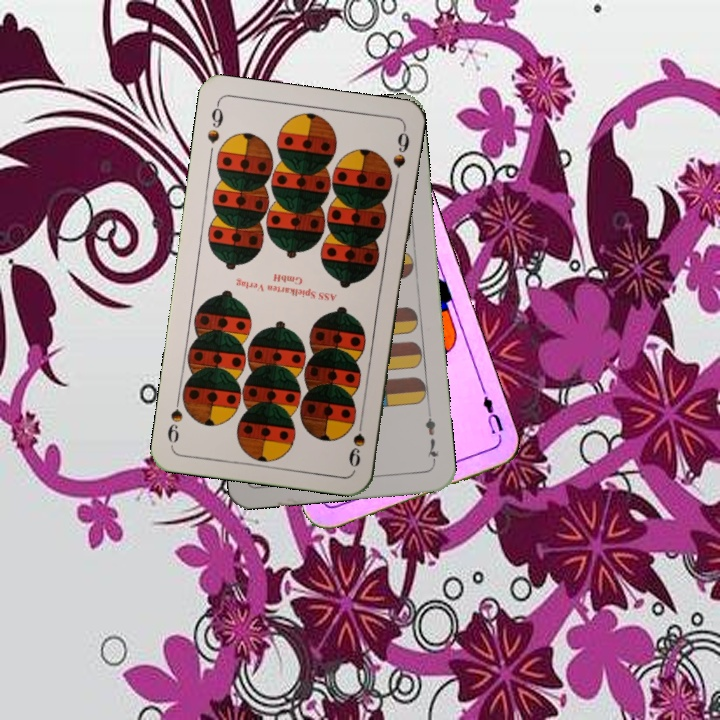E7: (421, 407, 442, 466)
EU: (478, 385, 506, 437)
S9: (345, 411, 368, 470), (203, 99, 226, 146)
